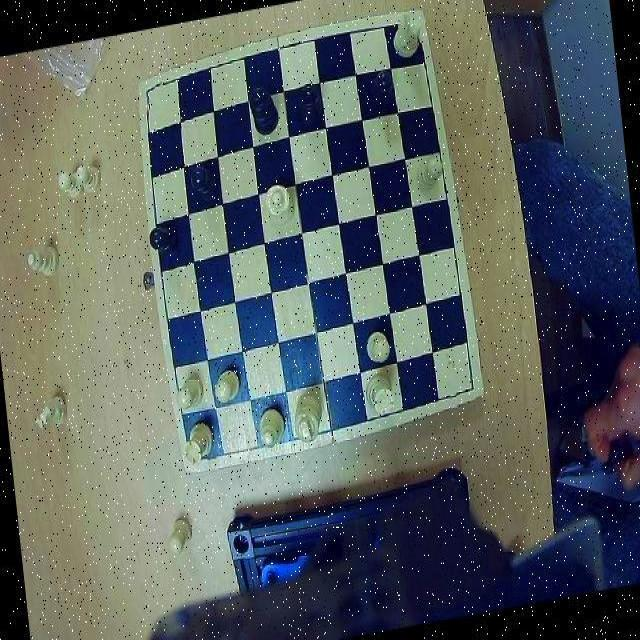chess-table-corners: (448, 376, 482, 411), (396, 12, 428, 48), (186, 446, 218, 478), (139, 80, 166, 112)
